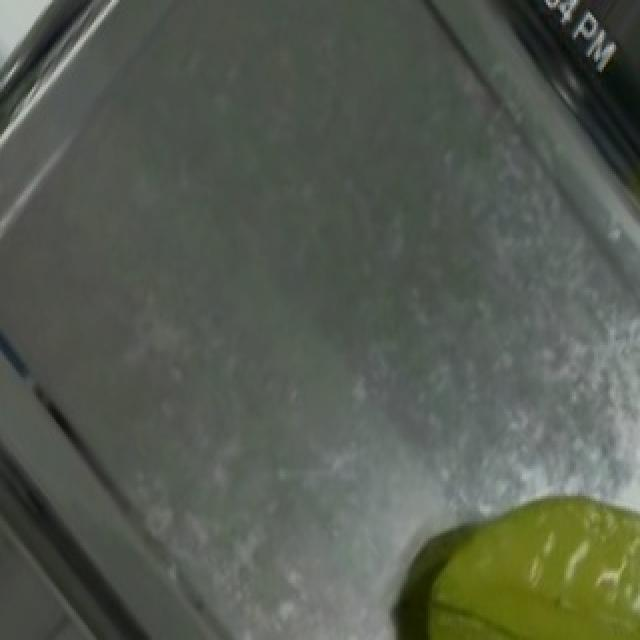fruit: (392, 466, 640, 640)
